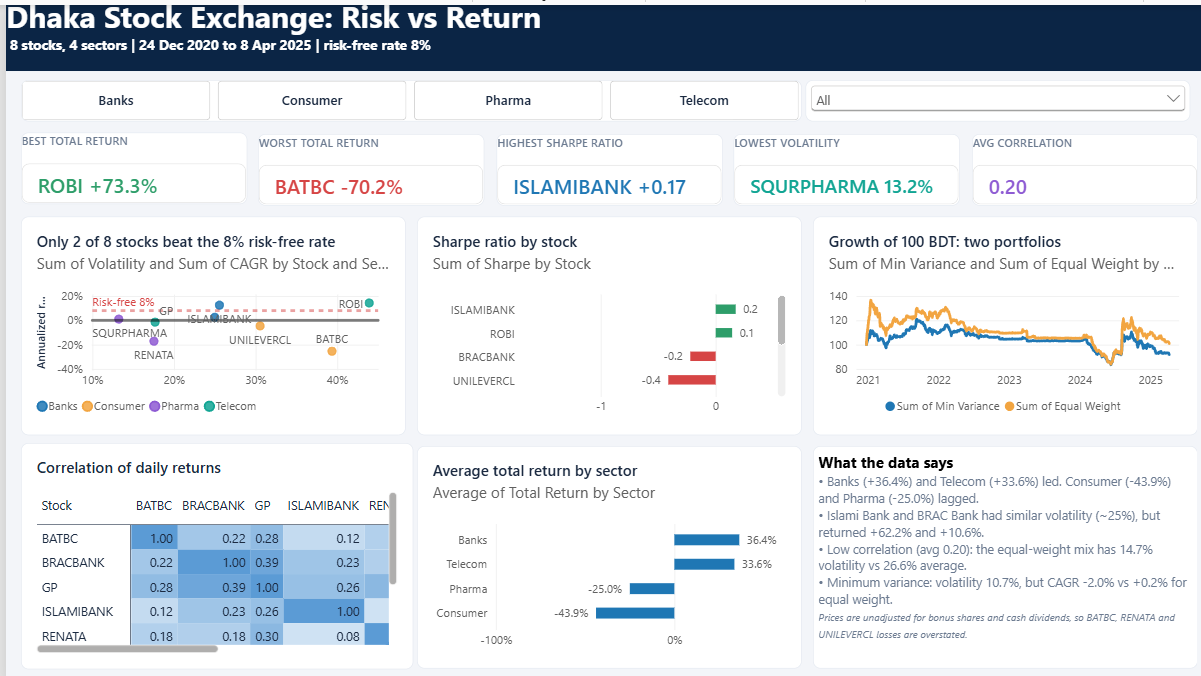

Layout of this report page (visuals, bound fields, positions):
{"tool":"powerbi","page":{"name":"Dashboard","canvas":[1280,720],"ordinal":0},"visuals":[{"type":"textbox","box":[0,0,1280,70],"z":0},{"type":"advancedSlicerVisual","fields":{"Values":["Scorecard.Sector"]},"box":[16,80,828,44],"z":1000},{"type":"slicer","fields":{"Values":["Scorecard.Stock"]},"box":[848,80,408,44],"z":2000},{"type":"cardVisual","title":"BEST TOTAL RETURN","fields":{"Data":["Scorecard.KPI Best Return"]},"box":[16,135,240,76],"z":3000},{"type":"cardVisual","title":"WORST TOTAL RETURN","fields":{"Data":["Scorecard.KPI Worst Return"]},"box":[268,136,240,76],"z":4000},{"type":"cardVisual","title":"HIGHEST SHARPE RATIO","fields":{"Data":["Scorecard.KPI Best Sharpe"]},"box":[520,136,240,76],"z":5000},{"type":"cardVisual","title":"LOWEST VOLATILITY","fields":{"Data":["Scorecard.KPI Lowest Volatility"]},"box":[772,136,240,76],"z":6000},{"type":"cardVisual","title":"AVG CORRELATION","fields":{"Data":["Scorecard.KPI Avg Correlation"]},"box":[1024,136,240,76],"z":7000},{"type":"scatterChart","title":"Only 2 of 8 stocks beat the 8% risk-free rate","fields":{"Category":["Scorecard.Stock"],"Series":["Scorecard.Sector"],"X":["Sum(Scorecard.Volatility)"],"Y":["Sum(Scorecard.CAGR)"]},"box":[16,224,408,232],"z":8000},{"type":"clusteredBarChart","title":"Sharpe ratio by stock","fields":{"Category":["Scorecard.Stock"],"Y":["Sum(Scorecard.Sharpe)"]},"box":[436,224,408,232],"z":9000},{"type":"lineChart","title":"Growth of 100 BDT: two portfolios","fields":{"Category":["PortfolioGrowth.Date"],"Y":["Sum(PortfolioGrowth.Min Variance)","Sum(PortfolioGrowth.Equal Weight)"]},"box":[856,224,408,232],"z":10000},{"type":"pivotTable","title":"Correlation of daily returns","fields":{"Columns":["CorrMatrix.Other Stock"],"Rows":["CorrMatrix.Stock"],"Values":["Sum(CorrMatrix.Corr)"]},"box":[16,464,416,240],"z":11000},{"type":"clusteredBarChart","title":"Average total return by sector","fields":{"Category":["Scorecard.Sector"],"Y":["Avg(Scorecard.Total Return)"]},"box":[436,468,408,236],"z":12000},{"type":"textbox","box":[856,468,408,236],"z":13000}]}

Visuals, with their boxes in screenshot pixels (x1, y1, x2, y2), scaled from the page's 1280x720 canvas onto the 1201x676 screenshot:
textbox: x1=0, y1=0, x2=1200, y2=66
advancedSlicerVisual - Scorecard.Sector: x1=15, y1=75, x2=792, y2=116
slicer - Scorecard.Stock: x1=796, y1=75, x2=1178, y2=116
"BEST TOTAL RETURN" cardVisual: x1=15, y1=127, x2=240, y2=198
"WORST TOTAL RETURN" cardVisual: x1=251, y1=128, x2=477, y2=199
"HIGHEST SHARPE RATIO" cardVisual: x1=488, y1=128, x2=713, y2=199
"LOWEST VOLATILITY" cardVisual: x1=724, y1=128, x2=950, y2=199
"AVG CORRELATION" cardVisual: x1=961, y1=128, x2=1186, y2=199
"Only 2 of 8 stocks beat the 8% risk-free rate" scatterChart: x1=15, y1=210, x2=398, y2=428
"Sharpe ratio by stock" clusteredBarChart: x1=409, y1=210, x2=792, y2=428
"Growth of 100 BDT: two portfolios" lineChart: x1=803, y1=210, x2=1186, y2=428
"Correlation of daily returns" pivotTable: x1=15, y1=436, x2=405, y2=661
"Average total return by sector" clusteredBarChart: x1=409, y1=439, x2=792, y2=661
textbox: x1=803, y1=439, x2=1186, y2=661
